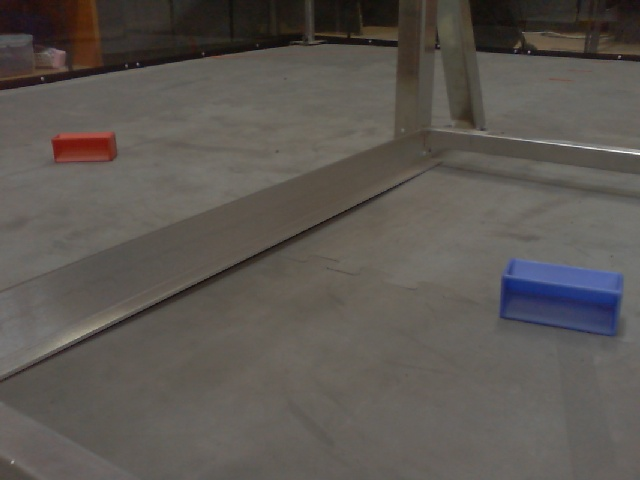BlueSample: (496, 253, 626, 343)
RedSample: (48, 130, 120, 163)
